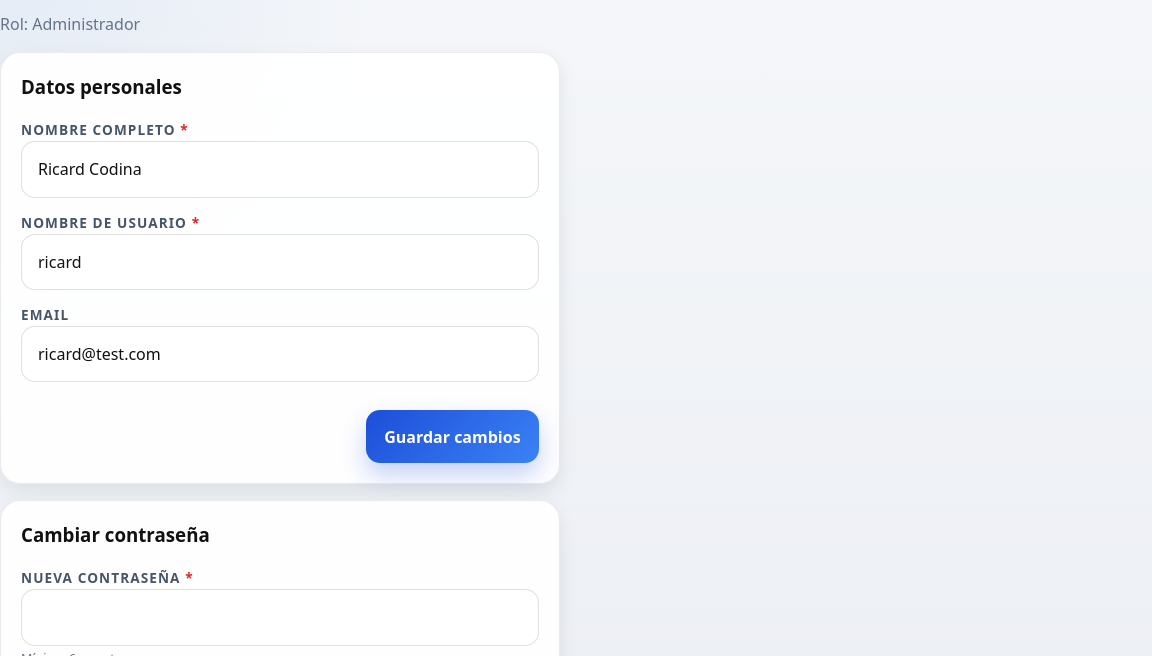
ProfileView › shows password validation error for short password
Type "123" into the password field.
click(280, 618); type("123")  # box [21,589,539,646]
(page scrolled)
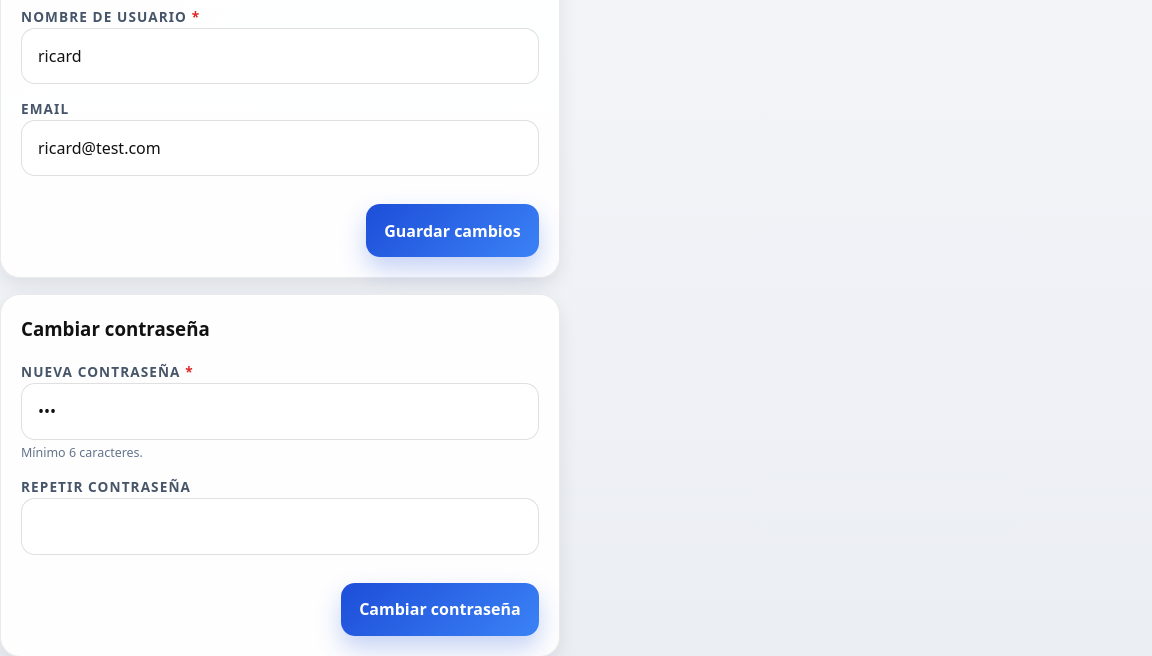
Type "123" into the password field below "Repetir contraseña".
click(280, 527); type("123")  # box [21,498,539,555]
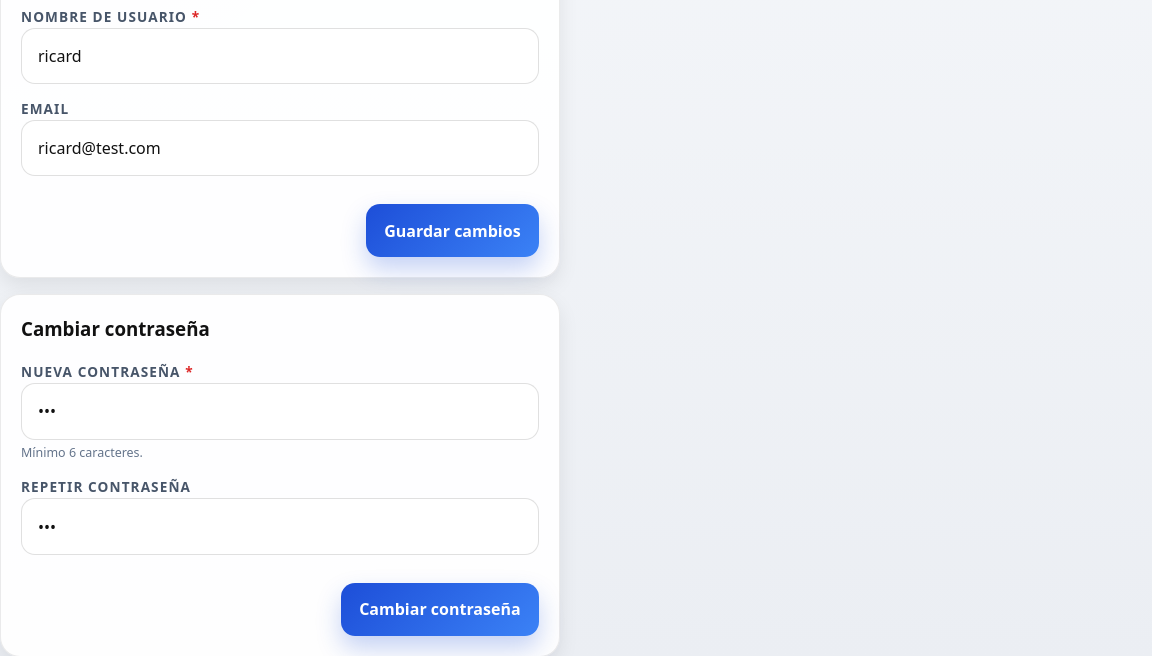
Submit the form that starts with "Nueva contraseña", box [21,359,539,636]
(page scrolled)
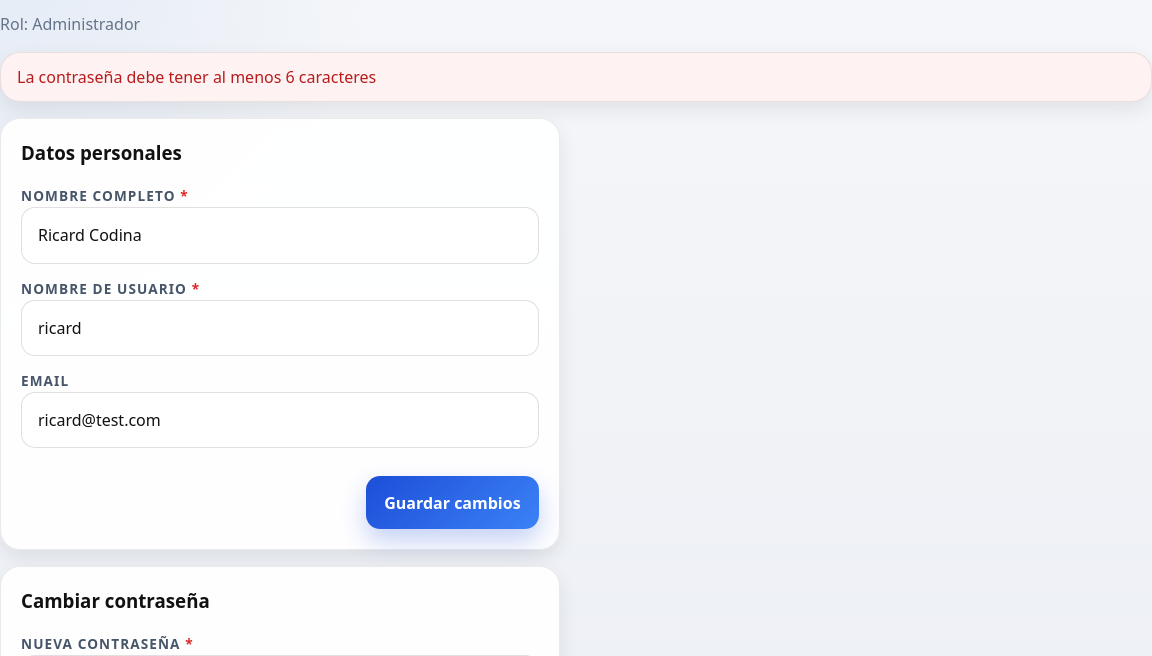
Expected: the text "La contraseña debe tener al menos 6 caracteres" is shown, [17,66,376,88]
